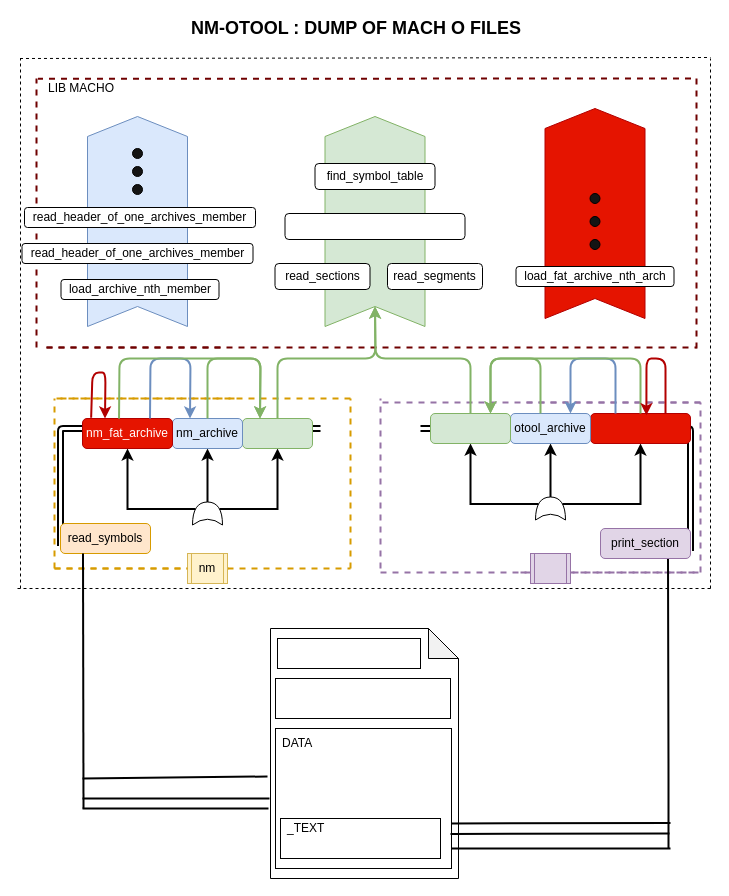
Some shapes in this 729 by 896 pixel diagram are drawn without their labels. The centre of each missing label's shape, as x and y in pixels:
"find_common_sections_indexes" belongs at pixel 374 226.
"HEADER" belongs at pixel 348 653.
"LOAD COMMANDS" belongs at pixel 362 698.
"nm_object" belongs at pixel 277 433.
"otool" belongs at pixel 550 568.
"otool_fat_archive" belongs at pixel 640 428.
"otool_object" belongs at pixel 470 428.
